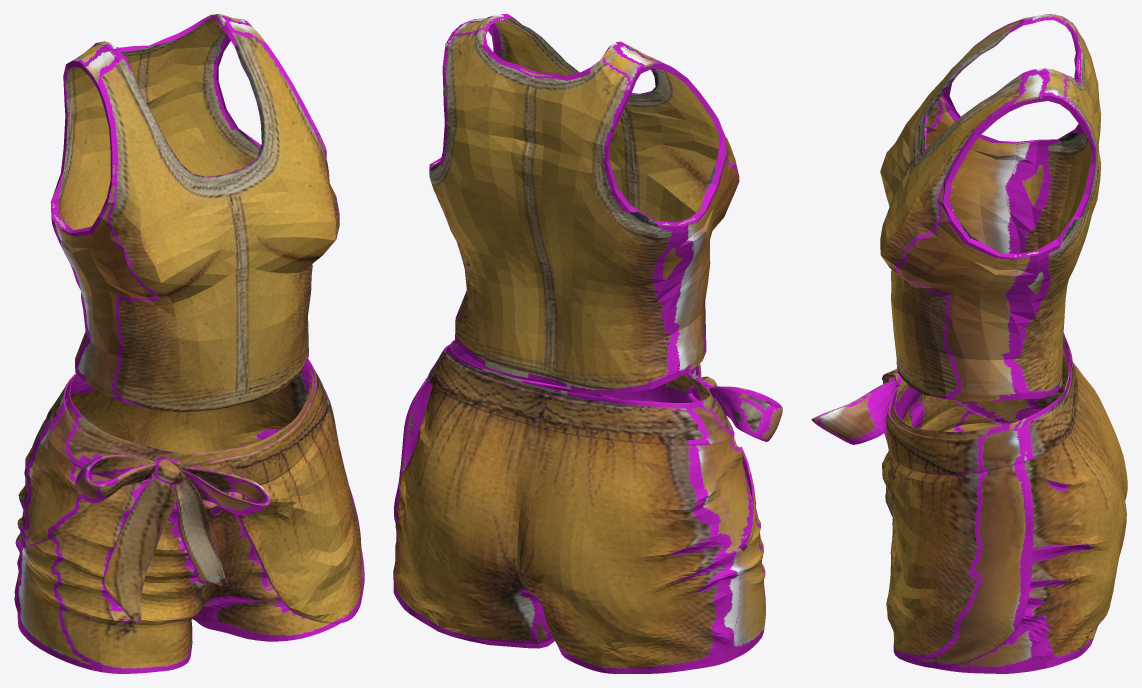
The picture shows the model from 3 angles, left to right: view 1: azimuth 30°, elevation 25°; view 2: azimuth 150°, elevation 25°; view 3: azimuth 270°, elevation 25°; orthographic projection. The views are drawn at different scales.
Bounding box in the file's own units: 0.4776 × 0.8193 × 0.4079.
1 material, 1 textured.
